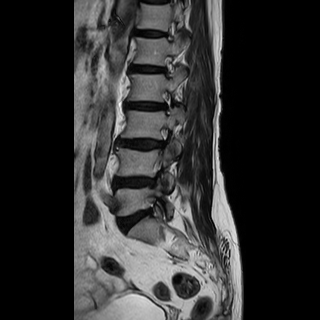LFS0: (154, 85, 178, 120), (156, 49, 180, 81)
